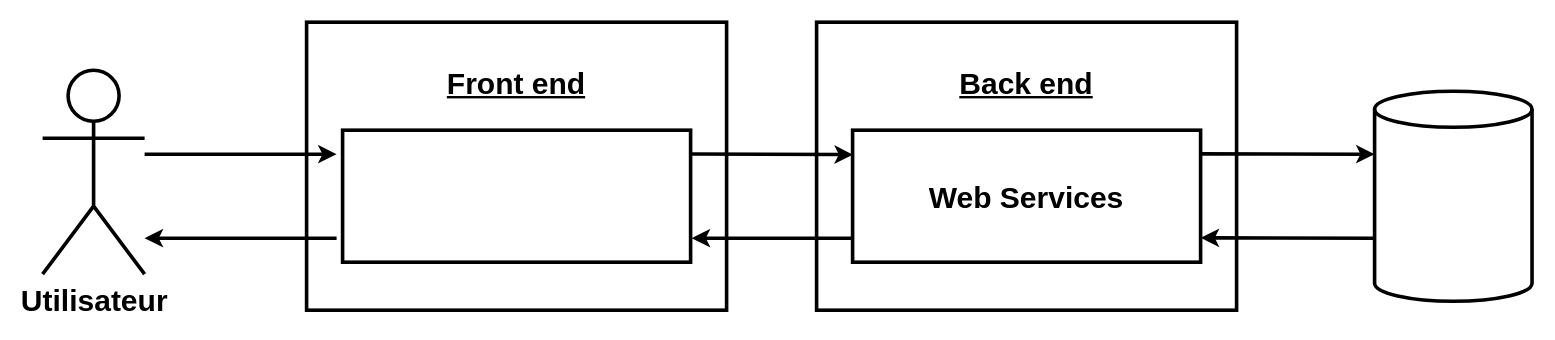
Image size: 1555x340. Some labels were removed from this diagram. Here are the shapes that lost their labels. From the top down, the box of each, then its label:
(340, 128, 692, 263): Présentation
(1372, 89, 1533, 302): Base de données
